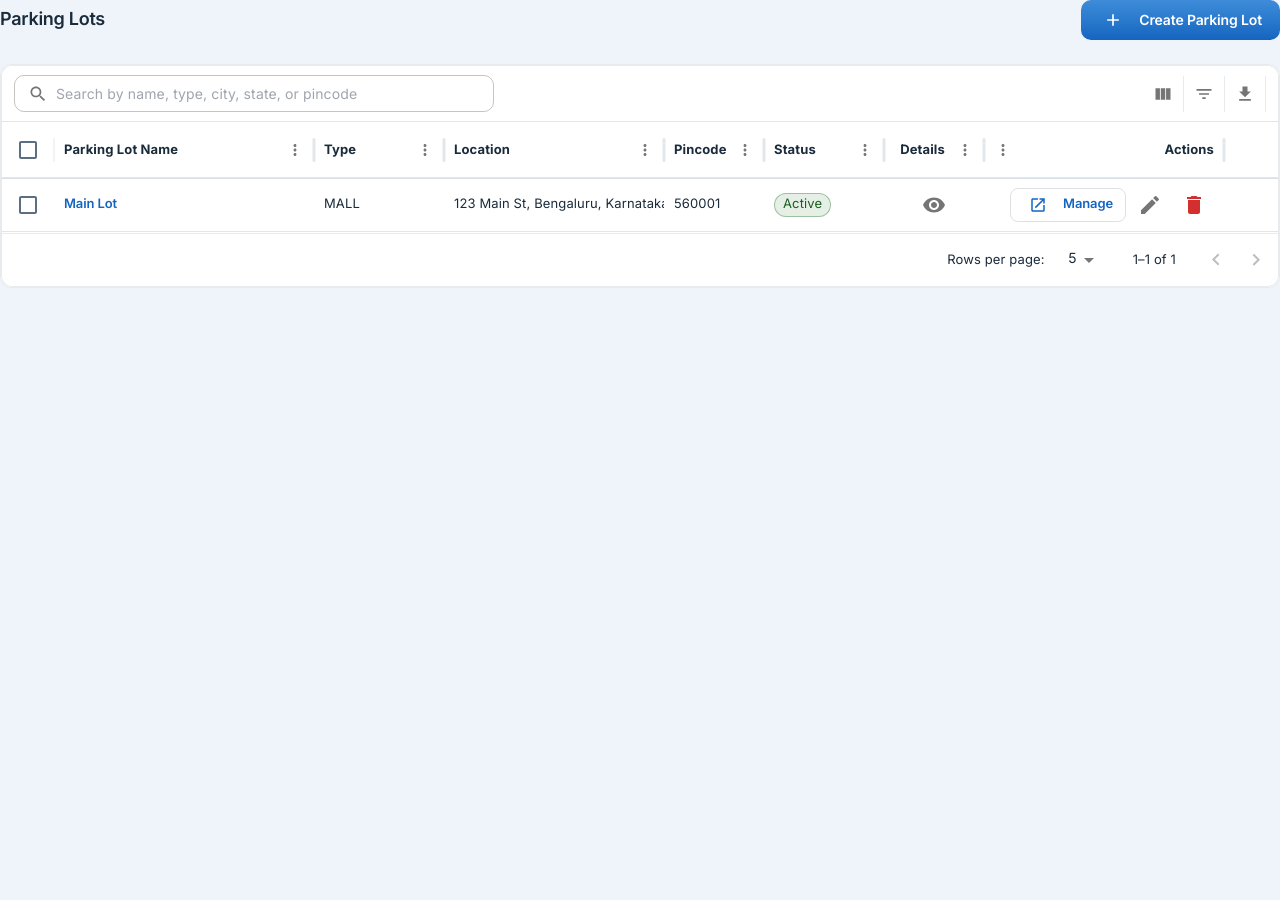
Test: ParkingLotsPage › edits a parking lot via dialog
Expected: the link "Main Lot" is shown, [64,196,117,212]
Click the button named "edit main lot" at (1150, 204), box [1130,184,1170,224]
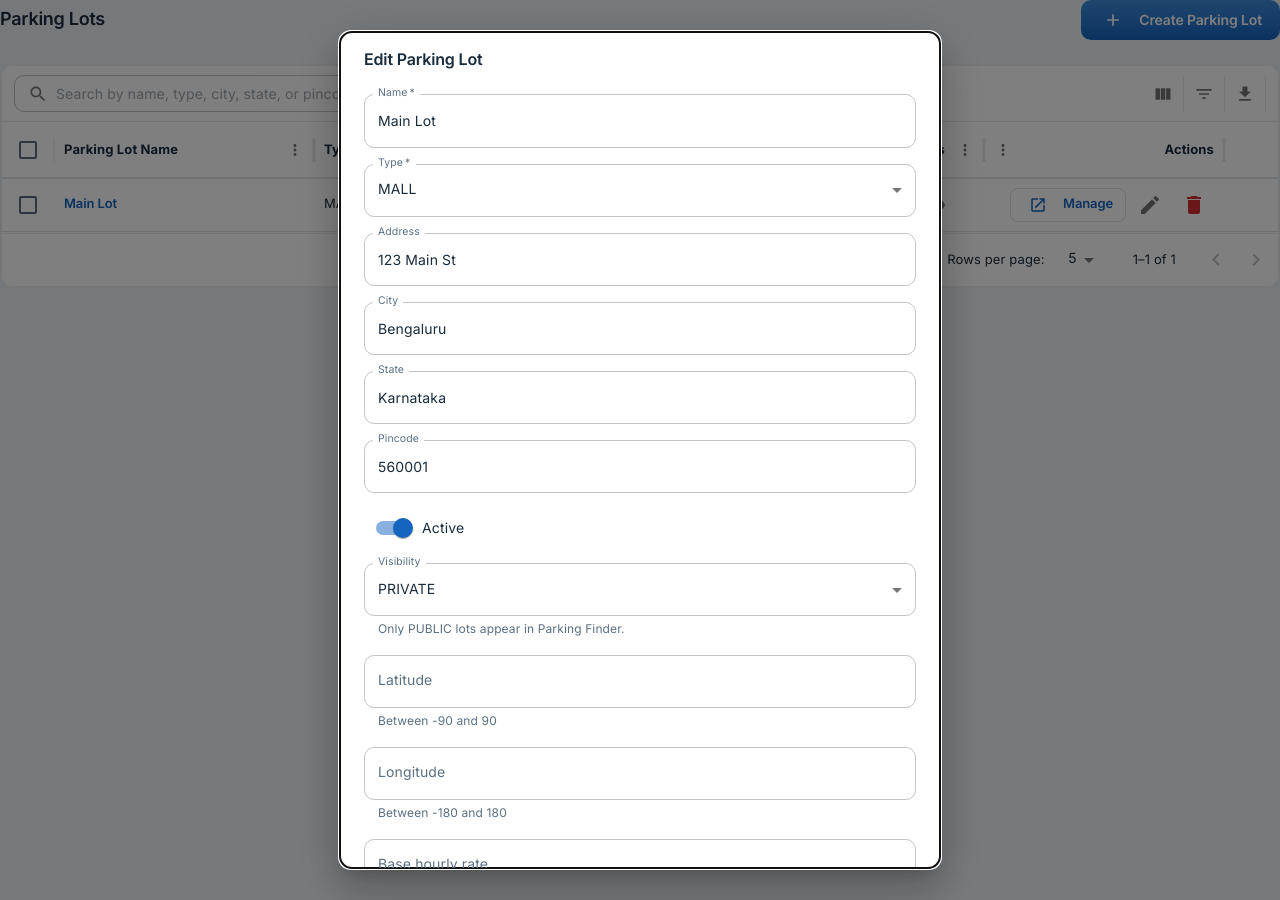
Replace the text in the field labelled "Name *" with "Updated Lot" at (640, 121), box [364,94,916,148]
(page scrolled)
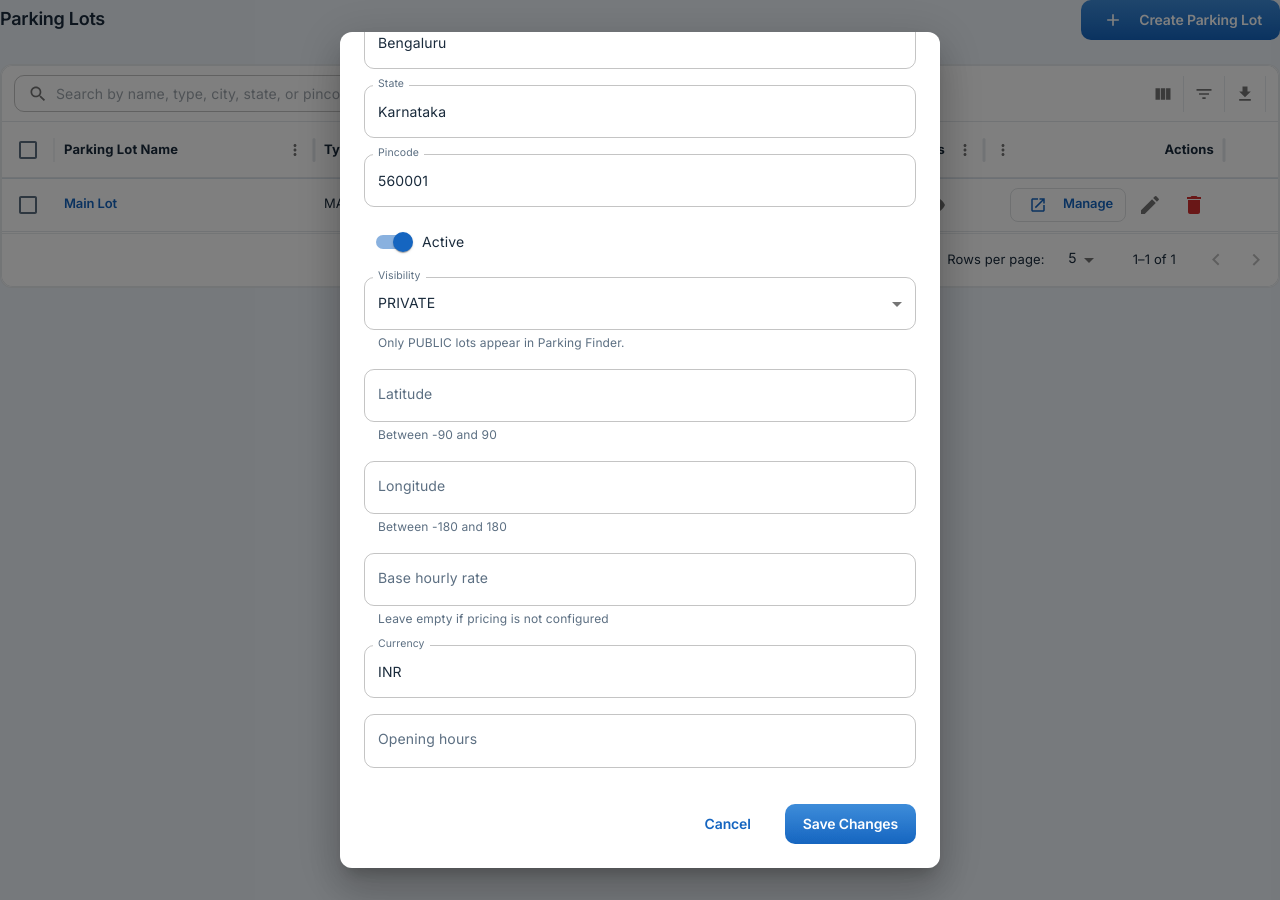
Click the button "Save Changes" at (850, 824), box [785,804,916,844]
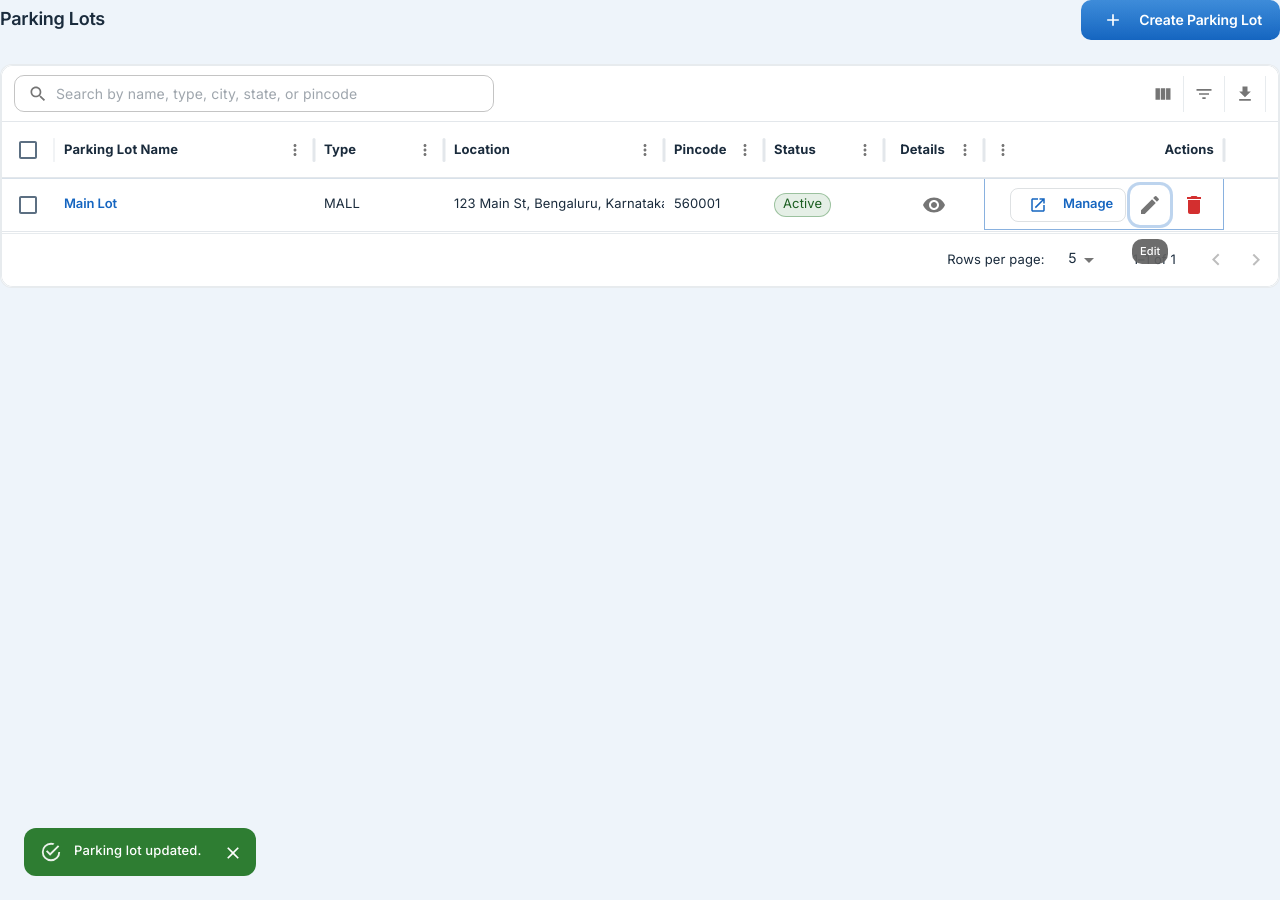
Now the text "Parking lot updated." is shown, box [74,843,202,859]
